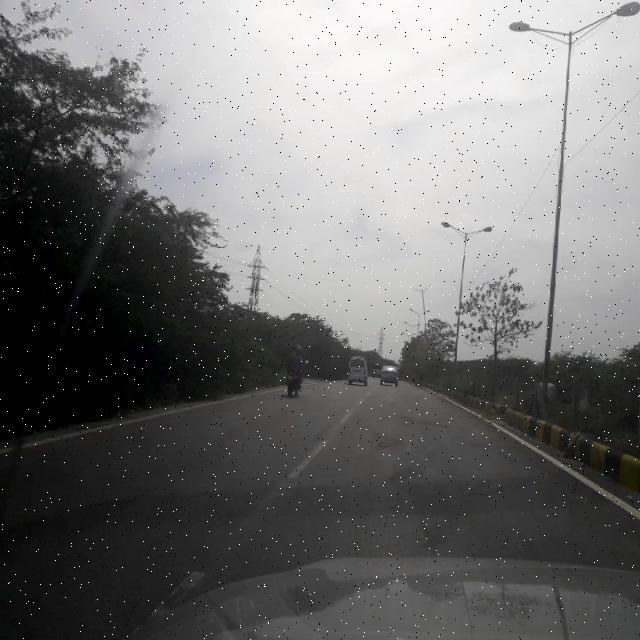D40: (358, 421, 404, 451), (467, 471, 513, 501), (385, 461, 430, 491)
